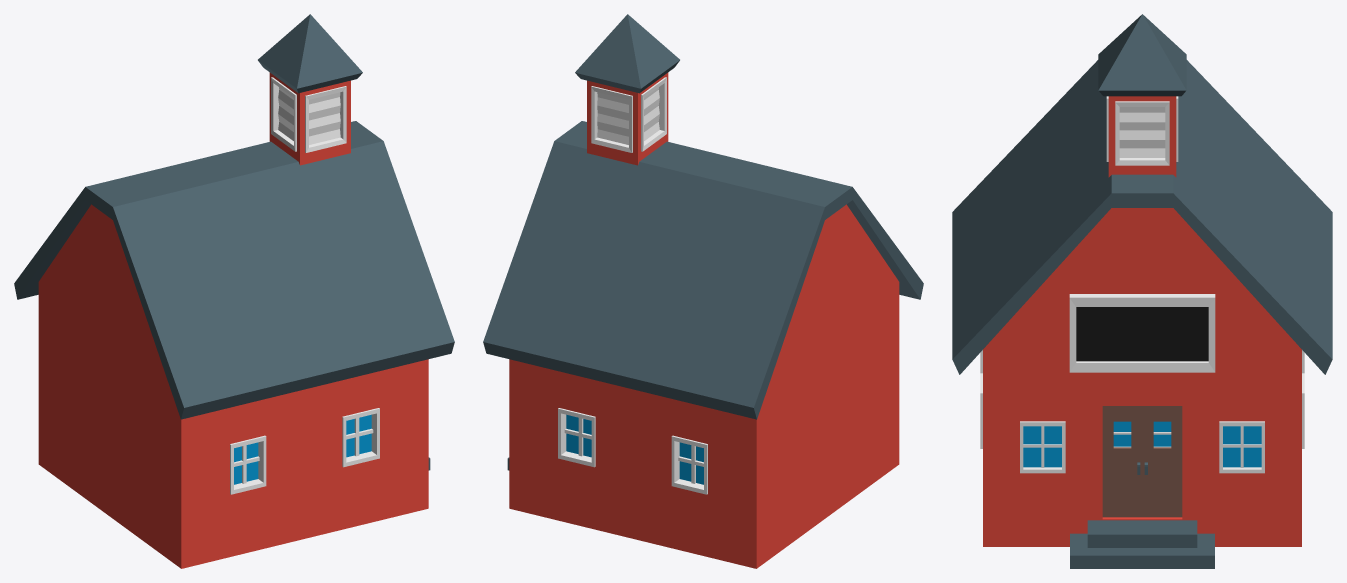
File: Schoolhouse_01.gltf
3 views of the same model, side by side, from view 1: azimuth 30°, elevation 25°; view 2: azimuth 150°, elevation 25°; view 3: azimuth 270°, elevation 25° (orthographic). The views are drawn at different scales.
Parts seen in each view (by area): view 1: node-0; view 2: node-0; view 3: node-0.
Part boxes in pixels (<box>): node-0: <box>14,14,454,568</box>; node-0: <box>483,14,923,568</box>; node-0: <box>952,14,1332,568</box>.
Size of the model in its own units: 6.93 by 10.05 by 6.83.
